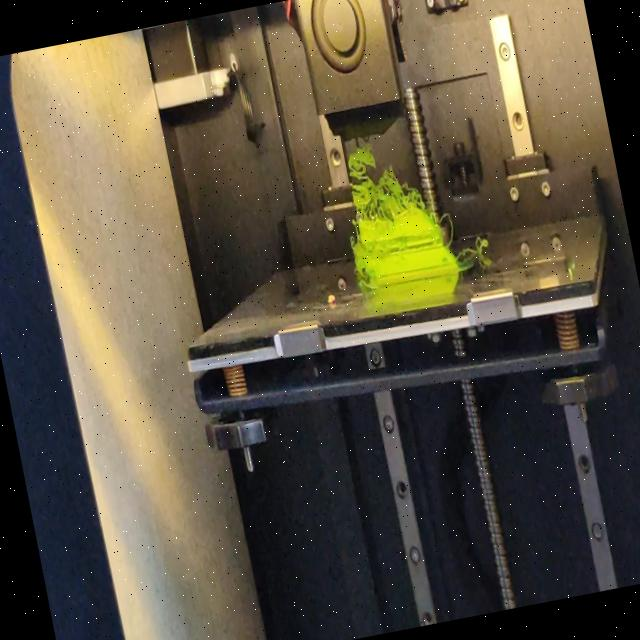spaghetti: (344, 134, 426, 226), (456, 236, 492, 260), (438, 212, 458, 249), (356, 274, 370, 288)
